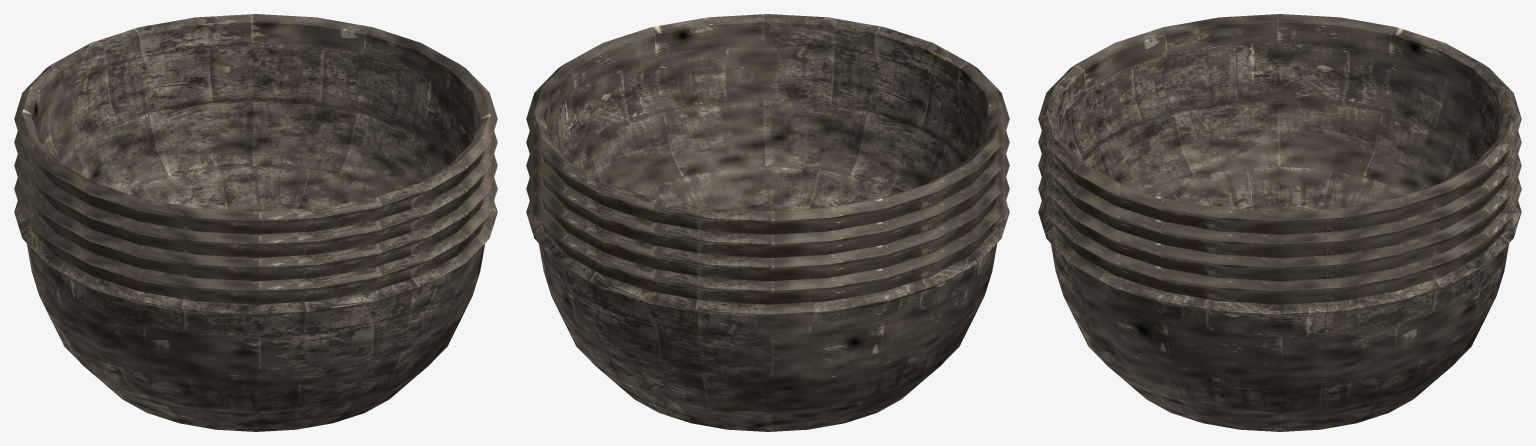
Rendered from mm8_deco_metalbowls.glb.
3 renders of one model, left to right at view 1: azimuth 30°, elevation 25°; view 2: azimuth 150°, elevation 25°; view 3: azimuth 270°, elevation 25°, orthographic.
Visible parts, largest first — view 1: Metalbowls; view 2: Metalbowls; view 3: Metalbowls.
Boxes of the visible parts, box(x1,y1,x2,y2) form: Metalbowls: box(14, 14, 497, 431); Metalbowls: box(526, 14, 1009, 431); Metalbowls: box(1038, 14, 1521, 431).
Size of the model in its own units: 0.2484 by 0.156 by 0.2484.
1 material, 1 textured.
